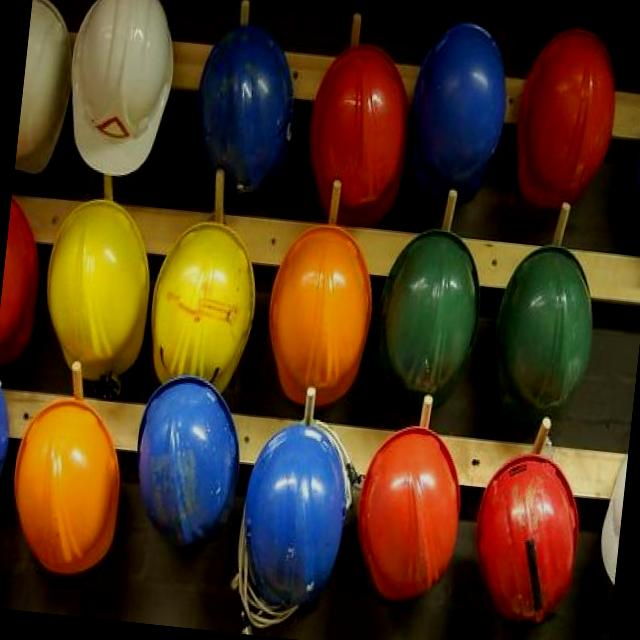helmet: (0, 392, 131, 580), (347, 422, 472, 614), (39, 193, 160, 389), (234, 414, 352, 613), (372, 220, 491, 414), (62, 0, 187, 179), (260, 224, 380, 410), (145, 214, 265, 398), (304, 34, 418, 227), (131, 369, 251, 552), (401, 17, 516, 204), (190, 22, 308, 204), (467, 447, 586, 627), (510, 24, 625, 210), (486, 240, 600, 427), (14, 0, 79, 176), (0, 190, 50, 376), (595, 450, 628, 595), (626, 92, 640, 245)
